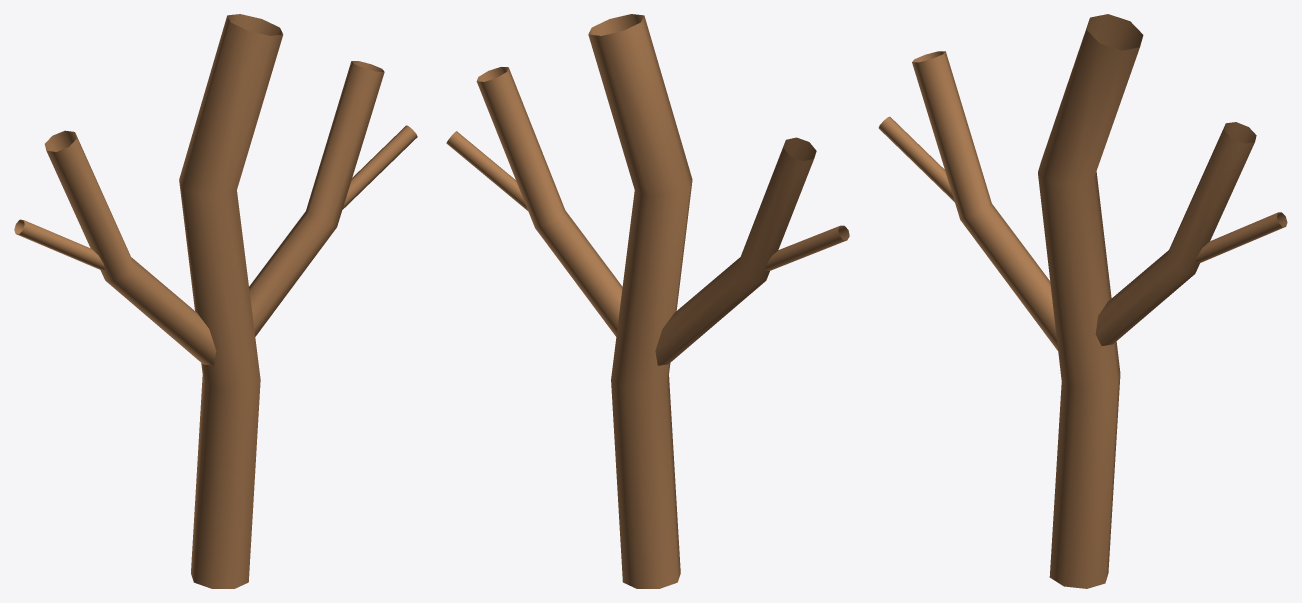
Rendered from dead-tree.glb.
The picture shows the model from 3 angles, left to right: view 1: azimuth 30°, elevation 25°; view 2: azimuth 150°, elevation 25°; view 3: azimuth 330°, elevation 25°; orthographic projection.
Parts seen in each view (by area): view 1: dead_tree_trunk, dead_tree_branch.001, dead_tree_branch, dead_tree_twig.001, dead_tree_twig; view 2: dead_tree_trunk, dead_tree_branch.001, dead_tree_branch, dead_tree_twig.001, dead_tree_twig; view 3: dead_tree_trunk, dead_tree_branch, dead_tree_branch.001, dead_tree_twig, dead_tree_twig.001.
Boxes of the visible parts, bbox=[...] form: dead_tree_trunk: bbox=[179, 14, 283, 588]; dead_tree_branch.001: bbox=[249, 61, 384, 336]; dead_tree_branch: bbox=[44, 130, 216, 365]; dead_tree_twig.001: bbox=[342, 125, 417, 209]; dead_tree_twig: bbox=[14, 219, 104, 270]; dead_tree_trunk: bbox=[588, 14, 692, 588]; dead_tree_branch.001: bbox=[476, 67, 622, 336]; dead_tree_branch: bbox=[655, 137, 816, 365]; dead_tree_twig.001: bbox=[446, 131, 527, 210]; dead_tree_twig: bbox=[765, 225, 849, 270]; dead_tree_trunk: bbox=[1038, 14, 1143, 588]; dead_tree_branch: bbox=[912, 51, 1057, 350]; dead_tree_branch.001: bbox=[1095, 122, 1256, 345]; dead_tree_twig: bbox=[878, 116, 954, 202]; dead_tree_twig.001: bbox=[1196, 212, 1287, 263].
Size of the model in its own units: 1.69 by 2.24 by 0.22.
